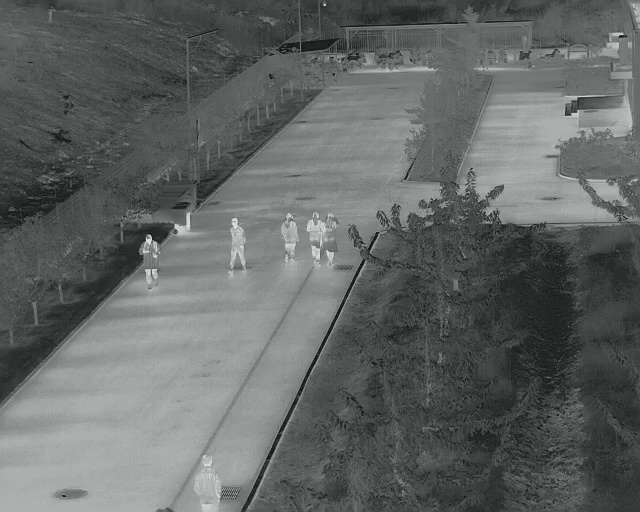person: (193, 454, 222, 509), (138, 234, 163, 289), (226, 215, 249, 274), (280, 210, 299, 261), (325, 212, 341, 269), (307, 211, 323, 265)
